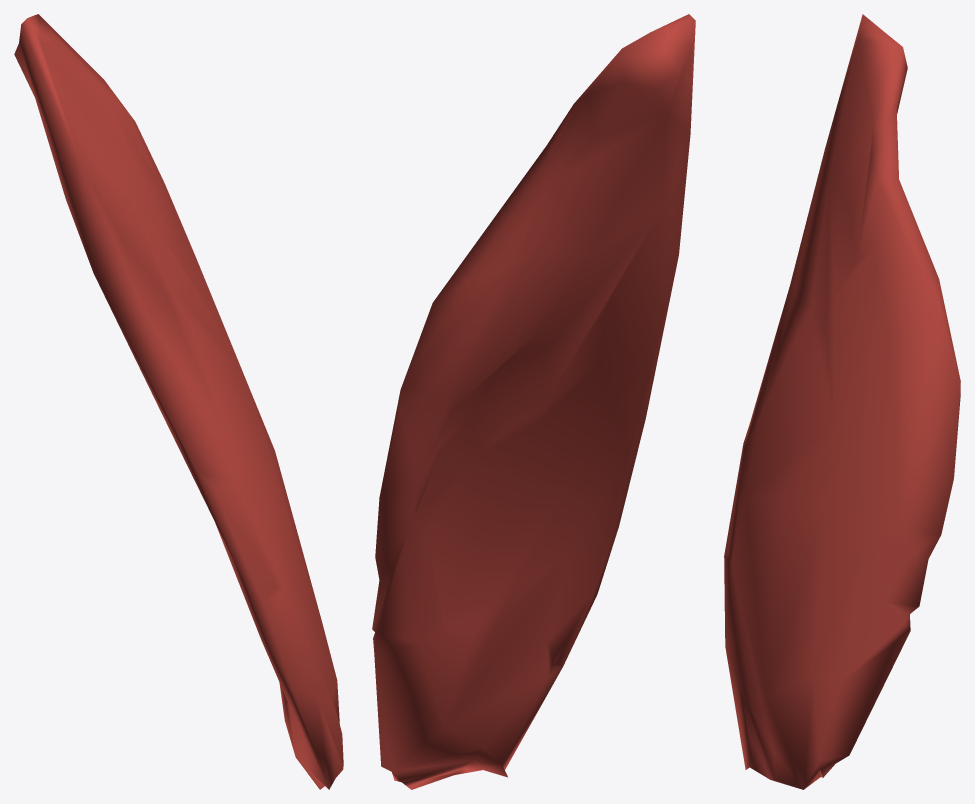
File: musculos-opponens-digiti-minimi-muscle-of-hand-r.glb
The picture shows the model from 3 angles, left to right: view 1: azimuth 30°, elevation 25°; view 2: azimuth 150°, elevation 25°; view 3: azimuth 270°, elevation 25°; orthographic projection. The views are drawn at different scales.
Visible parts, largest first — view 1: Opponens digiti minimi muscle of hand.r; view 2: Opponens digiti minimi muscle of hand.r; view 3: Opponens digiti minimi muscle of hand.r.
Boxes of the visible parts, x1,y1,x2,y2 form: Opponens digiti minimi muscle of hand.r: (14, 14, 343, 789); Opponens digiti minimi muscle of hand.r: (372, 14, 695, 789); Opponens digiti minimi muscle of hand.r: (724, 14, 960, 789).
Size of the model in its own units: 0.0184 by 0.0473 by 0.0154.
